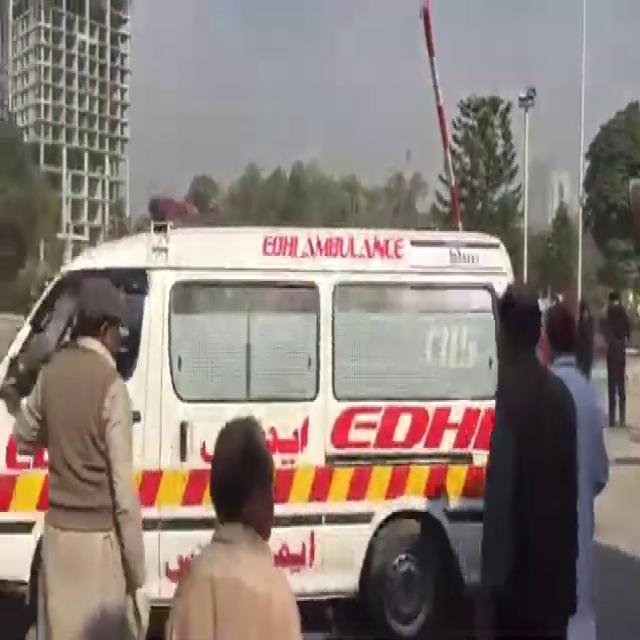ambulance: (0, 208, 501, 571)
